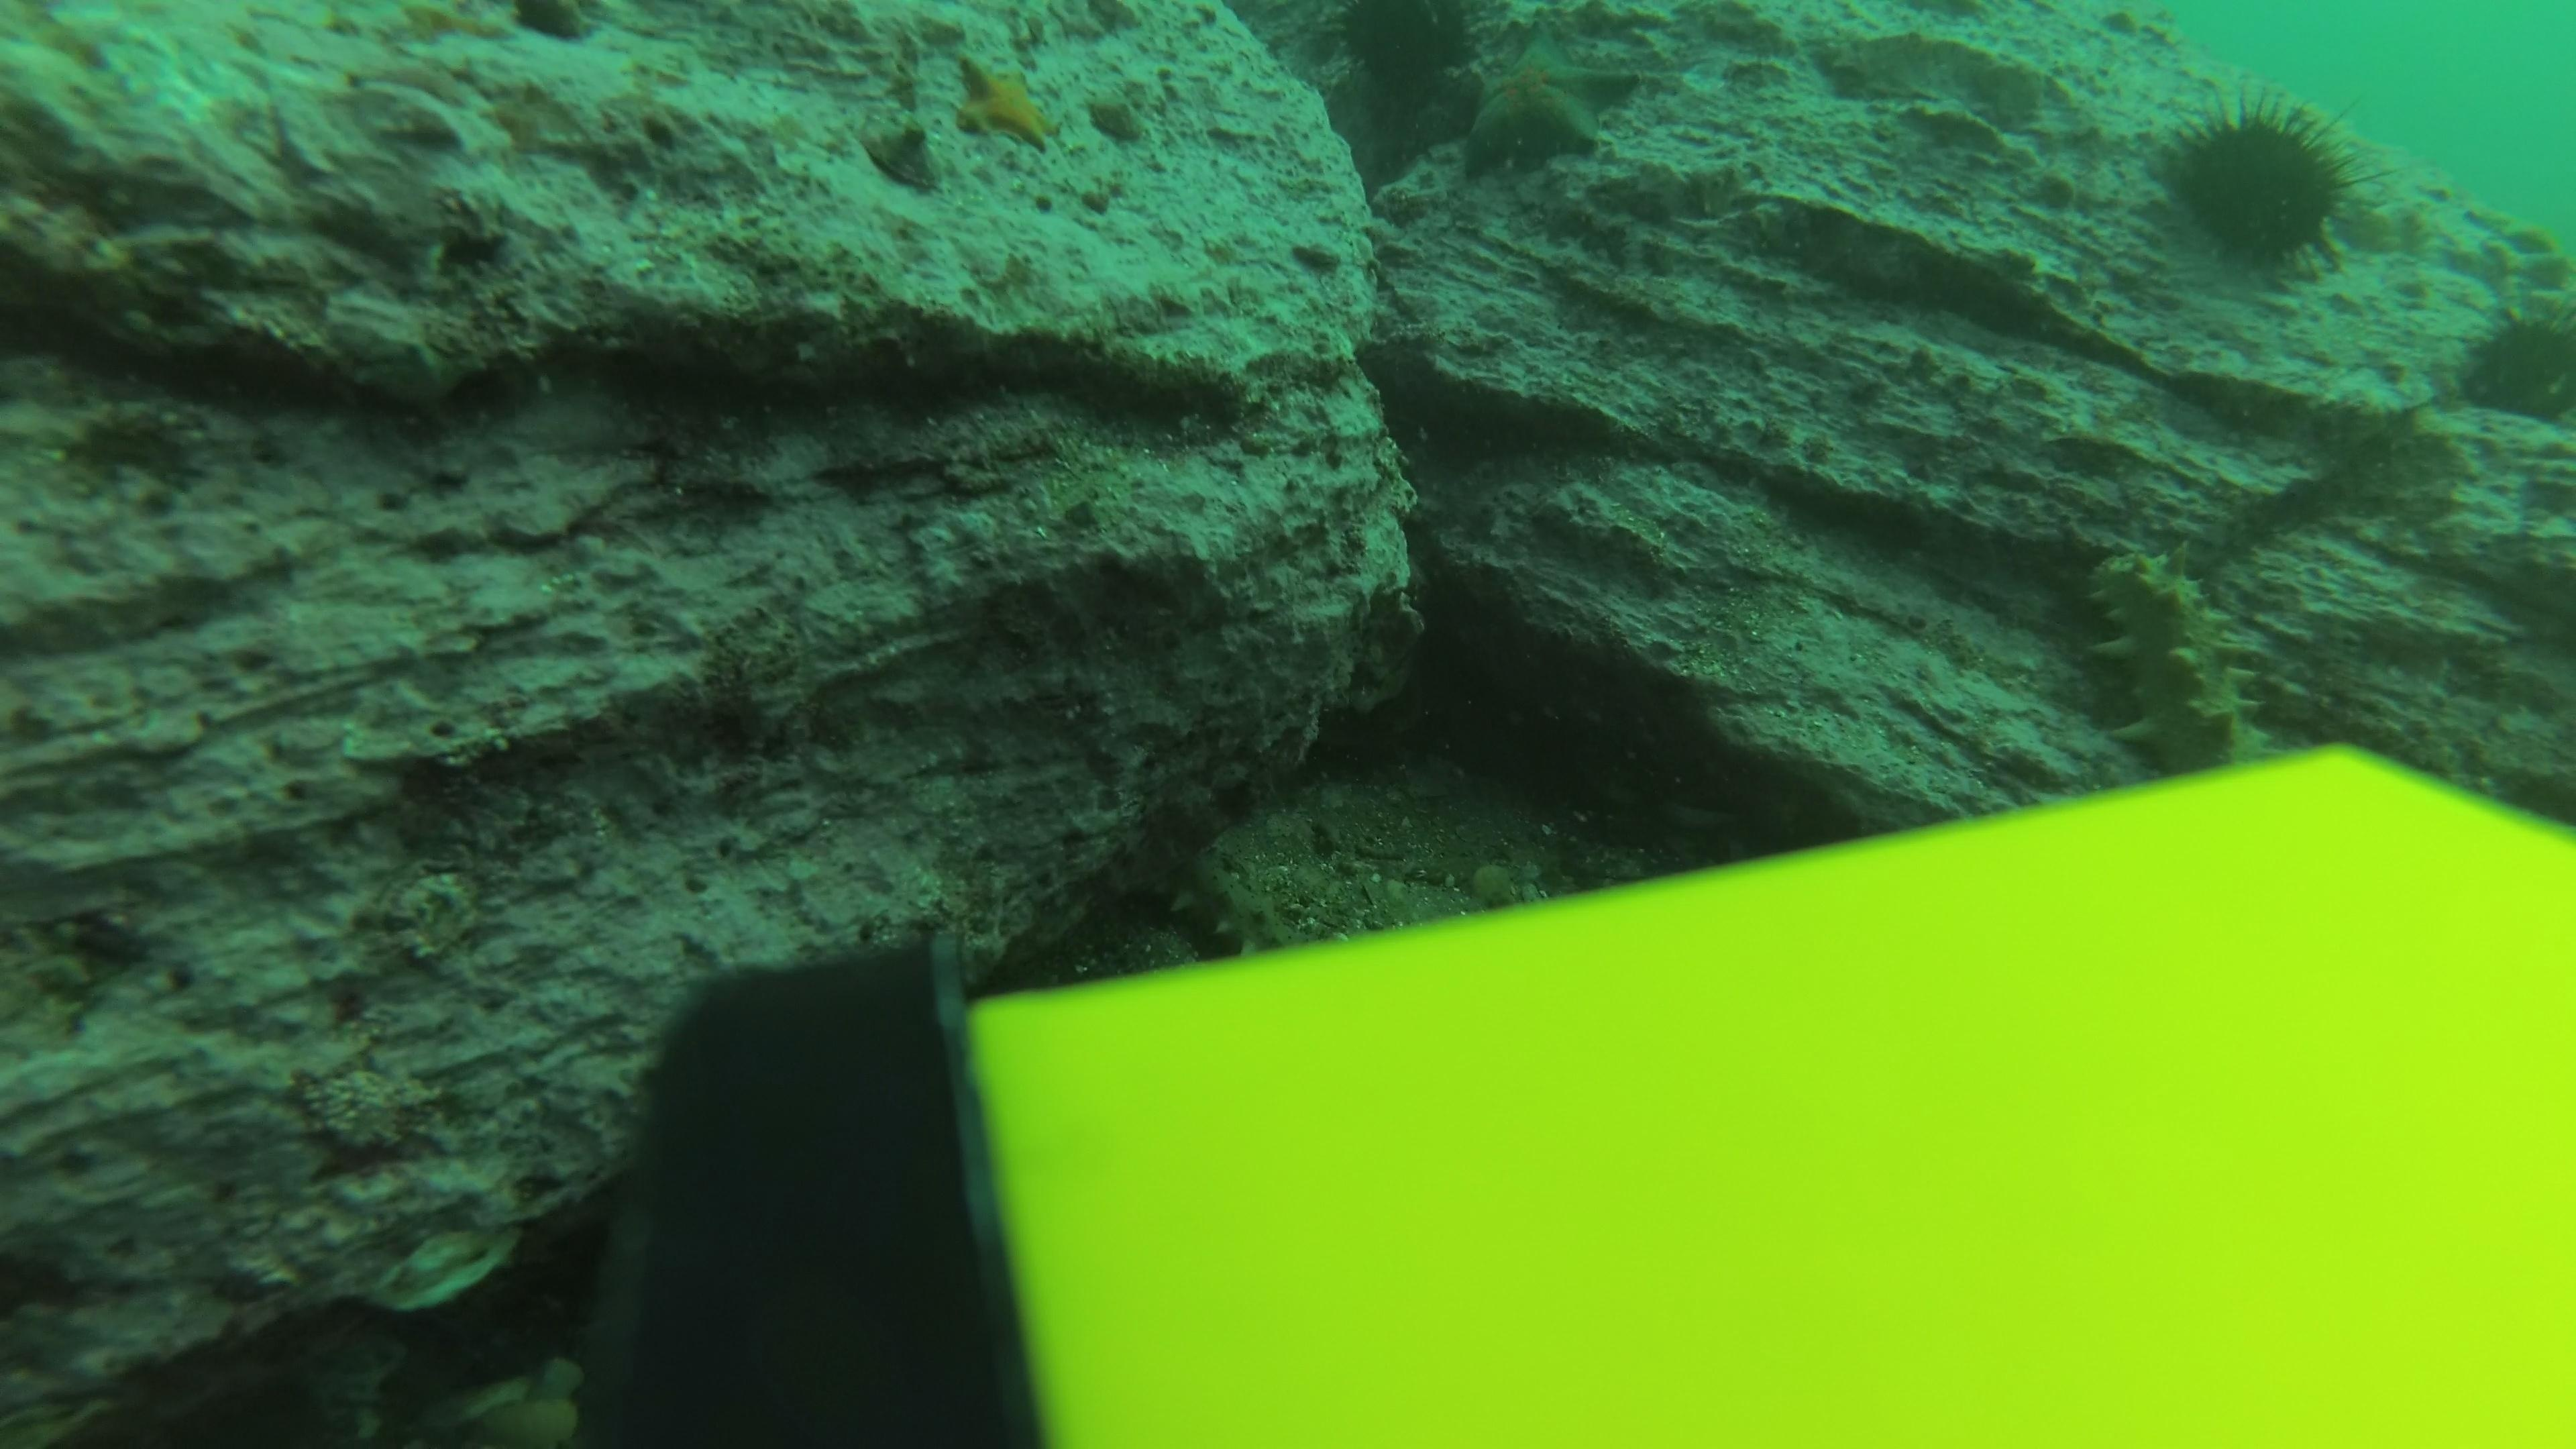echinus: (2148, 83, 2378, 283), (2450, 294, 2576, 433), (1325, 0, 1483, 108)
holothurian: (2070, 531, 2275, 777)
starfish: (1447, 23, 1654, 180), (947, 53, 1067, 154), (2449, 191, 2569, 269)
